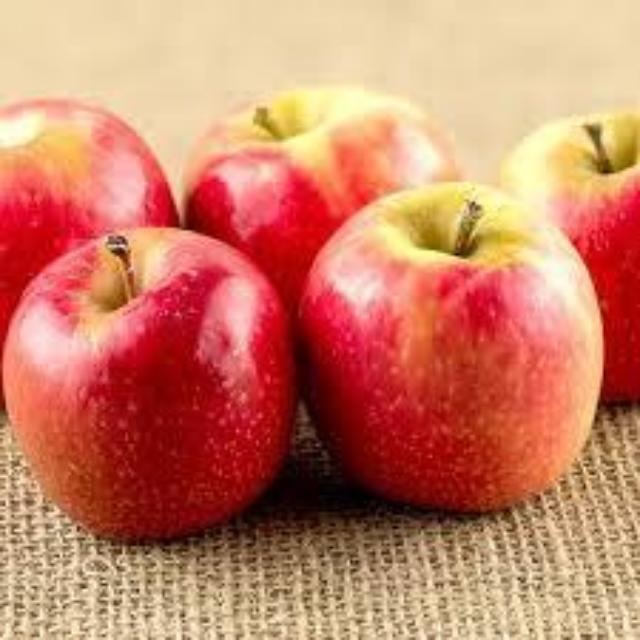apple: (299, 182, 600, 509), (3, 228, 293, 538), (185, 85, 458, 310), (0, 100, 176, 353), (501, 108, 637, 398)
